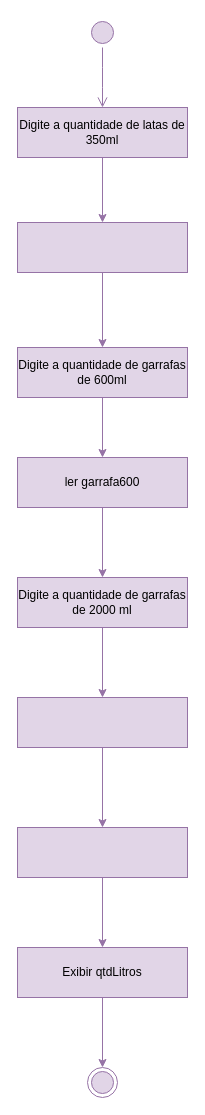
Image size: 205x1115. Some labels were removed from this diagram. The shapes that lost their labels are listed below. From the top down, each one's centre as x and y in pixels, then its label:
[102,247]: ler lata
[102,722]: ler garrafa2000
[102,852]: qtdLitros = (lata * 350) + (garrafa600 * 600) + (garrafa2000 * 2000)
